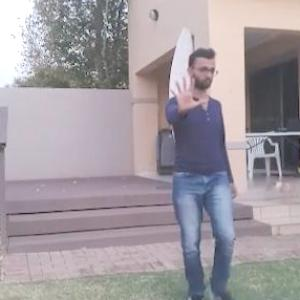follow_hand: (166, 70, 211, 116)
